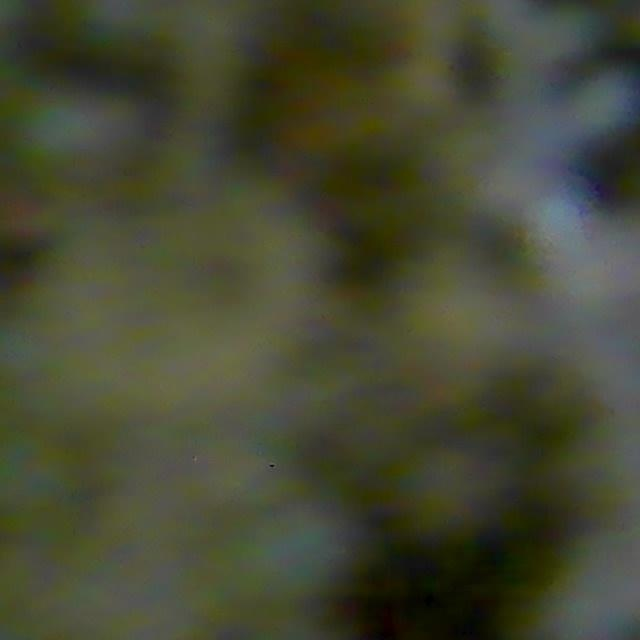SeaGrape: (16, 86, 115, 176)
